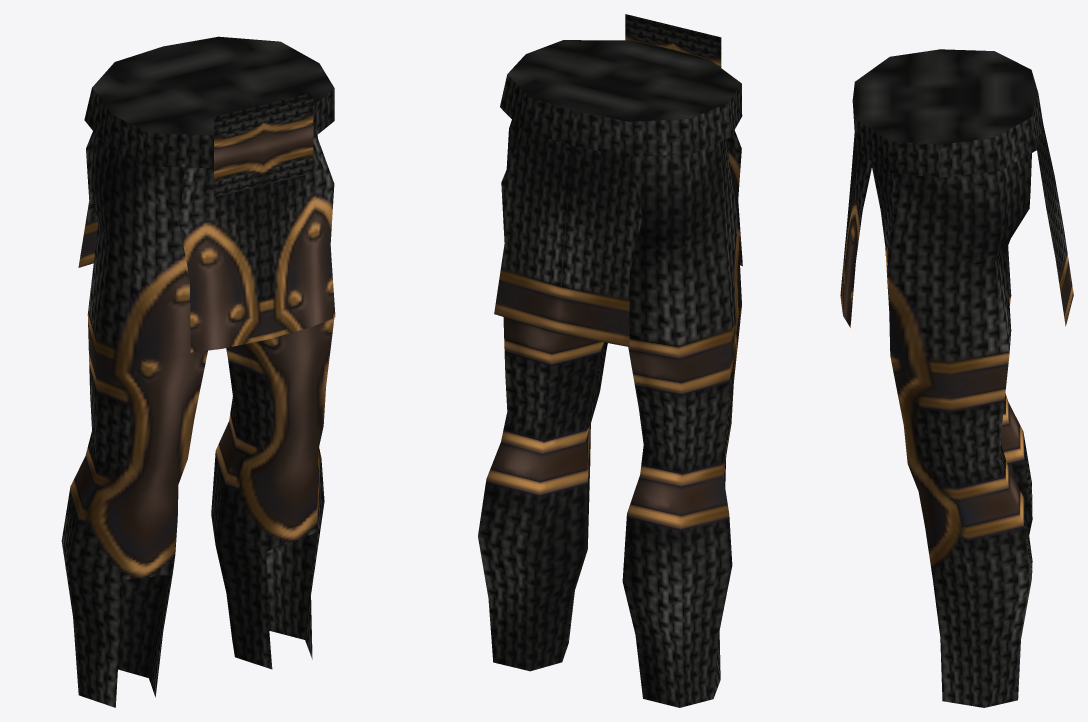
Rendered from hum_ember_01_7fb65006.glb.
The picture shows the model from 3 angles, left to right: view 1: azimuth 30°, elevation 25°; view 2: azimuth 150°, elevation 25°; view 3: azimuth 270°, elevation 25°; orthographic projection. The views are drawn at different scales.
Size of the model in its own units: 0.8402 by 1.36 by 0.4961.
Materials: 1 (1 with a texture image).
